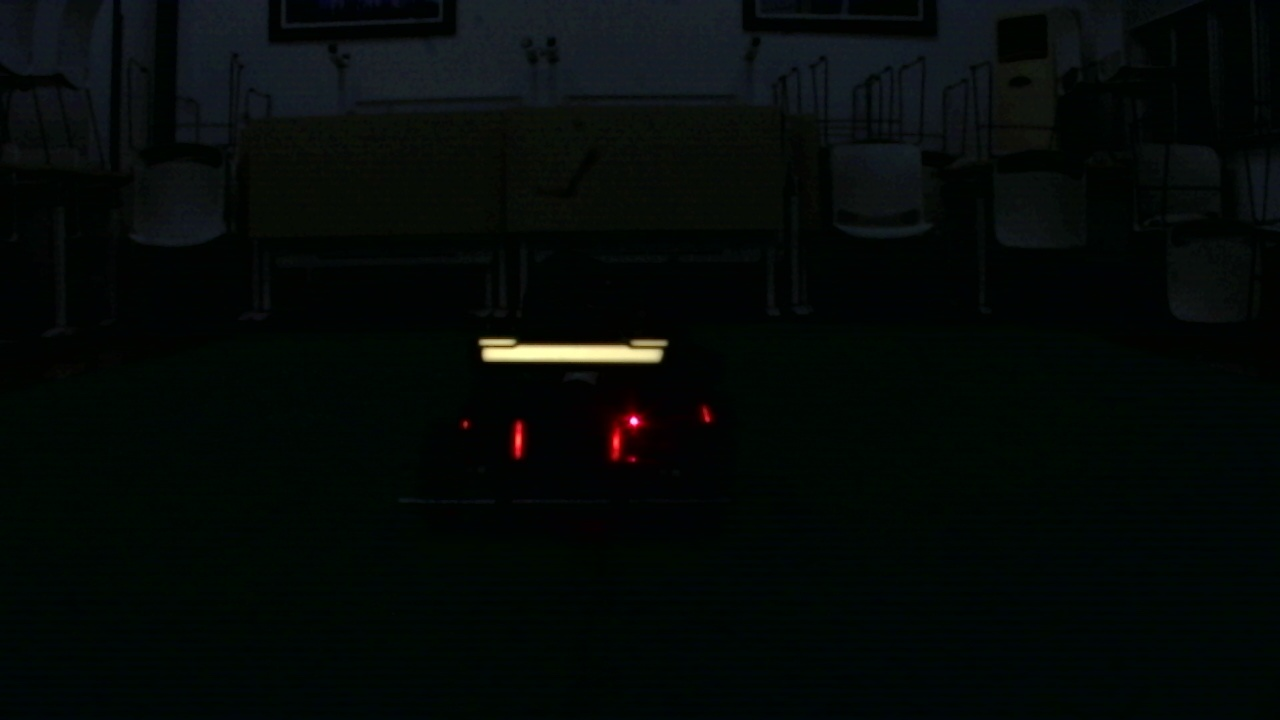lamp: (607, 419, 623, 464), (513, 420, 526, 461)
pair1: (514, 423, 623, 462)
